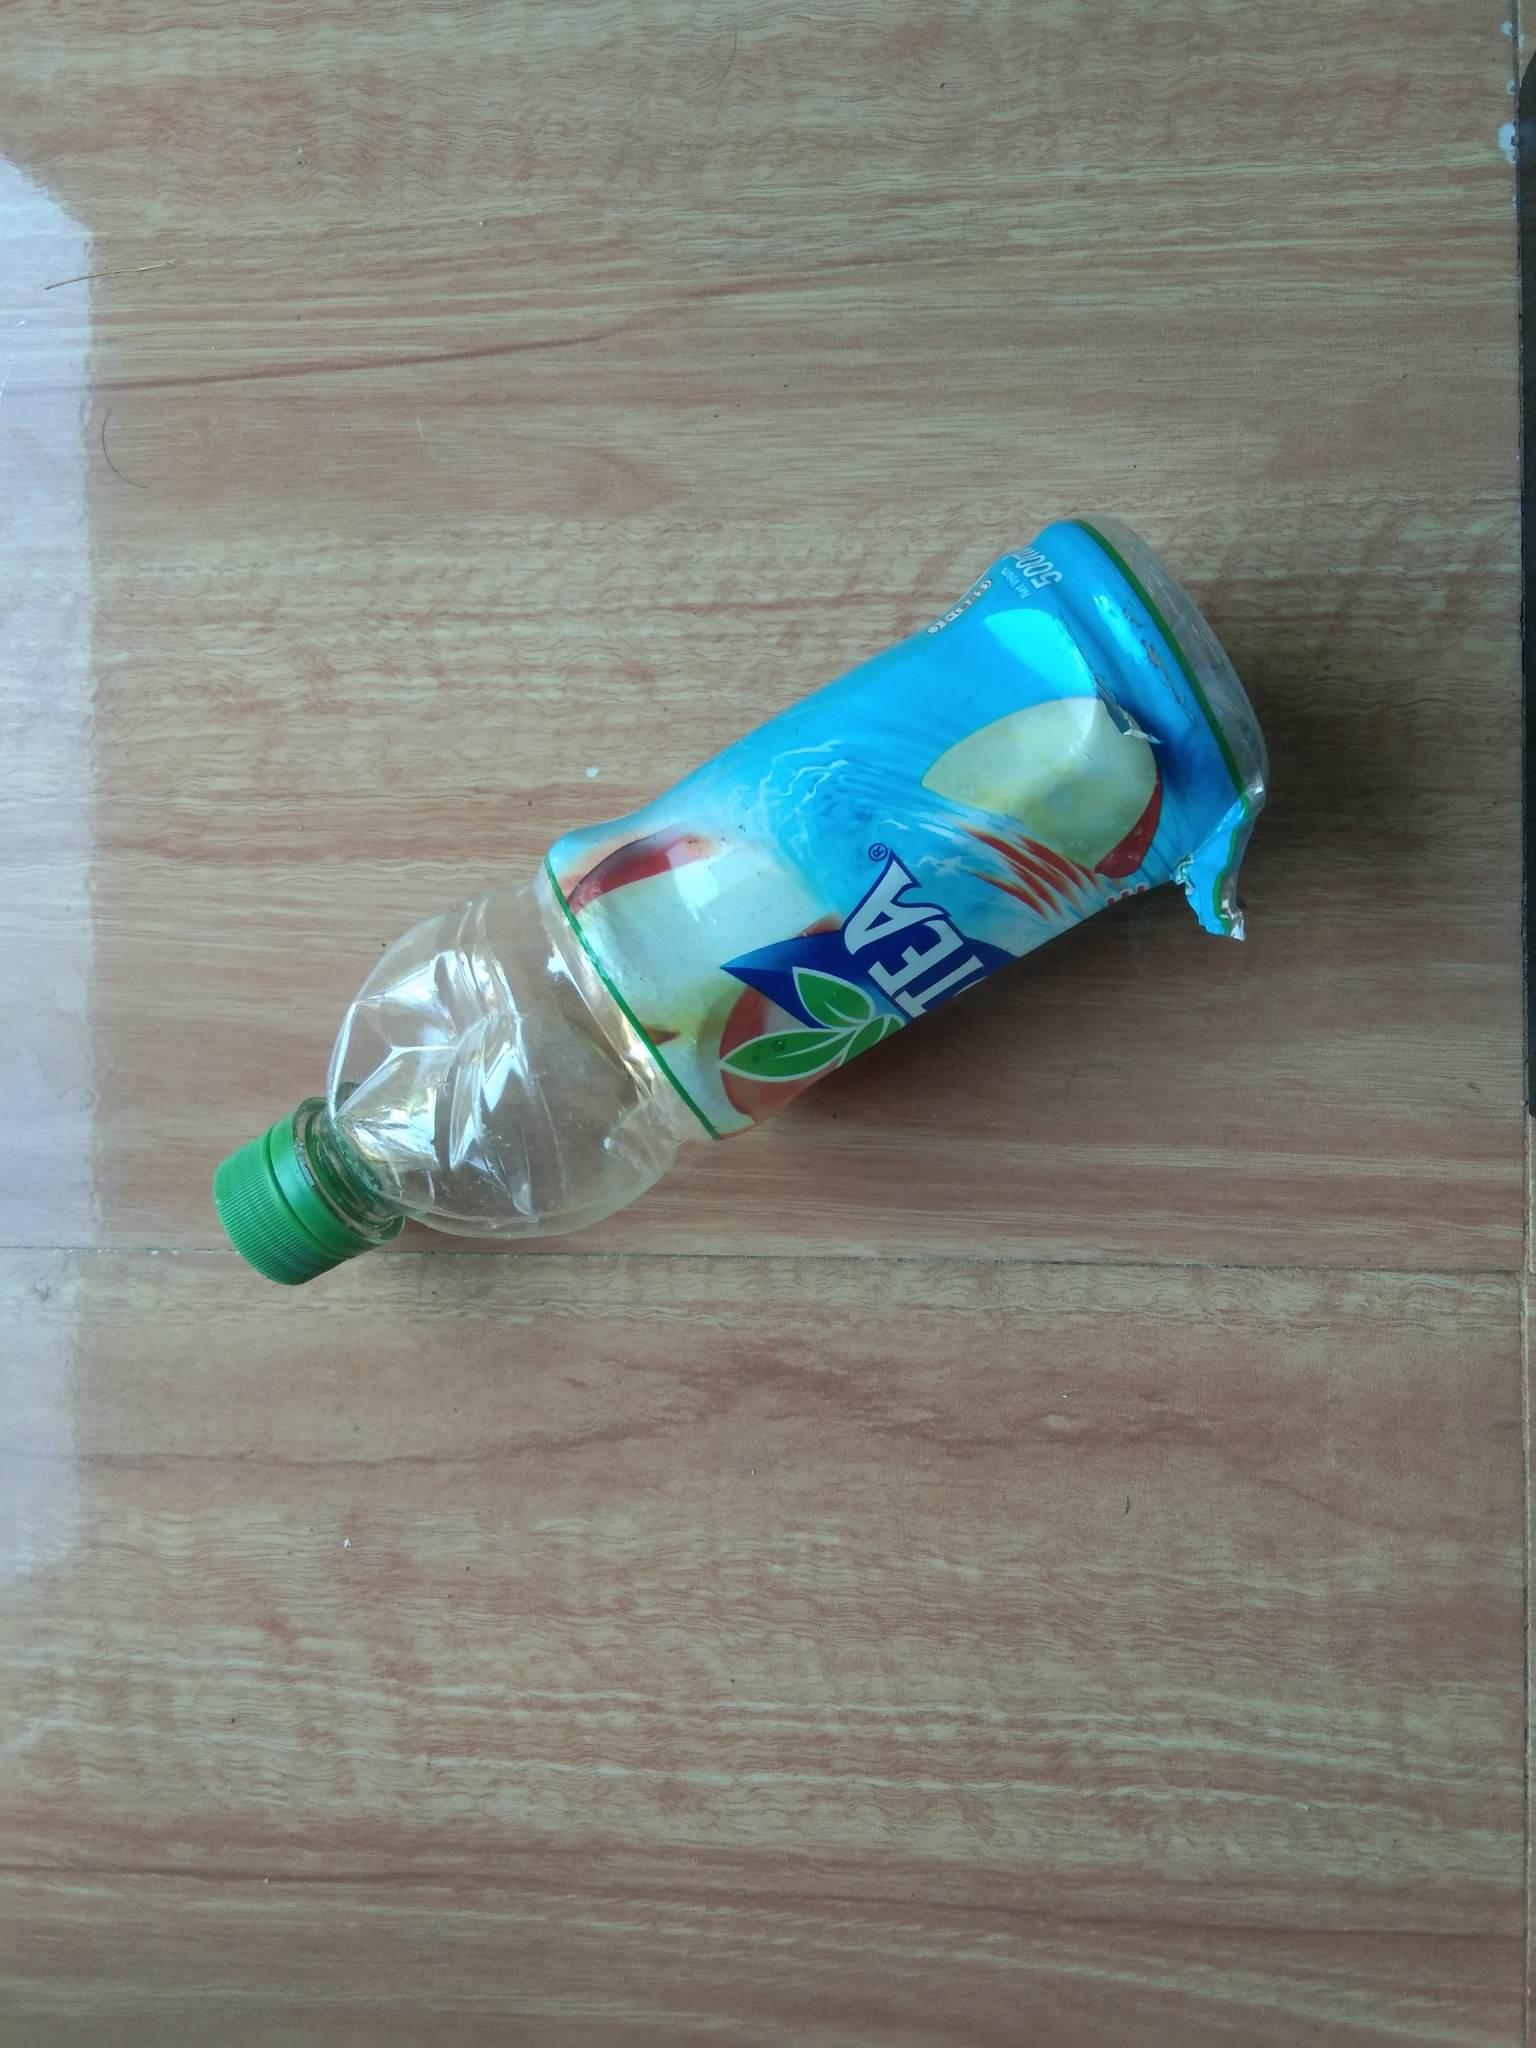plastic: (140, 484, 1342, 1319)
